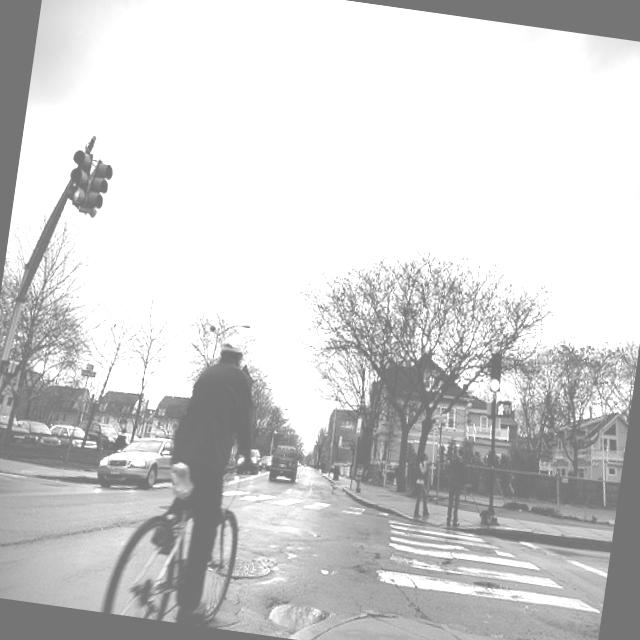Vehicle: (95, 431, 175, 496), (14, 416, 66, 446), (49, 422, 101, 450), (268, 442, 302, 484), (0, 411, 32, 455), (85, 421, 120, 458), (0, 411, 31, 440), (236, 456, 259, 476), (257, 455, 272, 471)
